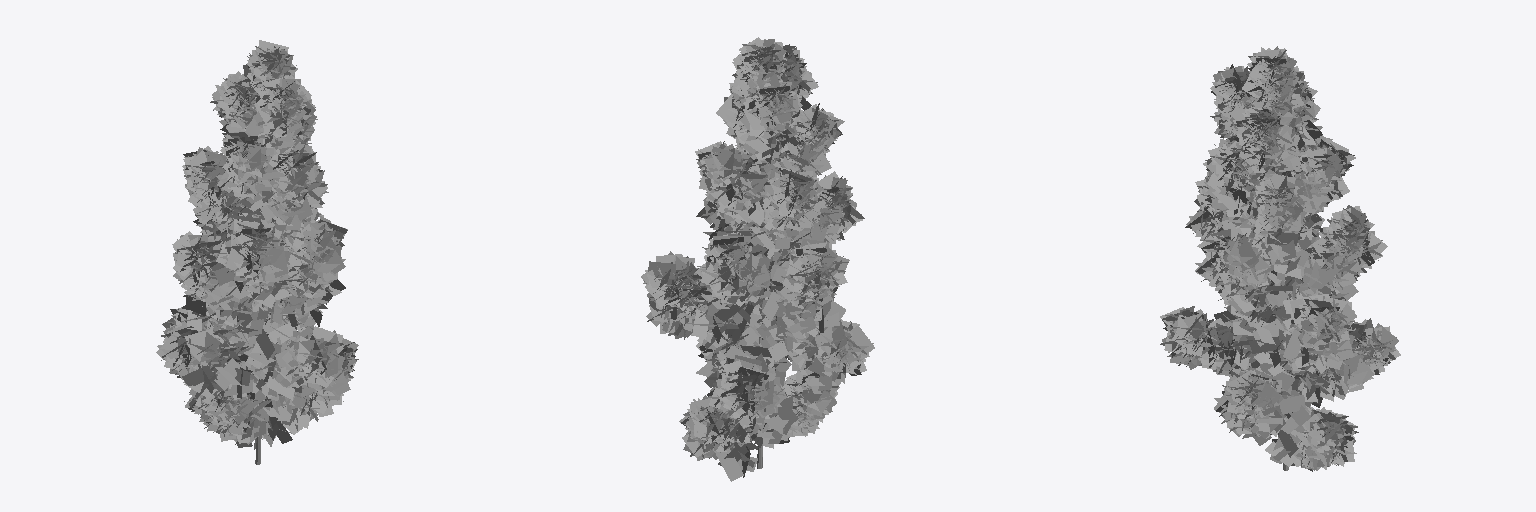
File: Tree2.obj
3 renders of one model, left to right at view 1: azimuth 30°, elevation 25°; view 2: azimuth 150°, elevation 25°; view 3: azimuth 270°, elevation 25°, orthographic.
Parts seen in each view (by area): view 1: leaves; view 2: leaves; view 3: leaves.
Part boxes in pixels (left/top/right/bottom): leaves: left=156, top=40, right=358, bottom=449; leaves: left=641, top=37, right=874, bottom=481; leaves: left=1160, top=46, right=1400, bottom=471.
Size of the model in its own units: 5.32 by 10.62 by 5.53.